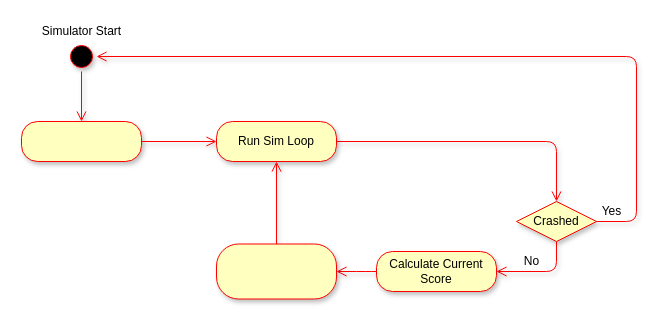
The diagram is 670 pixels wide and 323 high, and some of its shapes have lost their labels. The centre of each missing label's shape, as x and y in pixels:
Add Current Score To Total And Write in DataBase: [277,272]
Get Thought To Run: [82,142]
